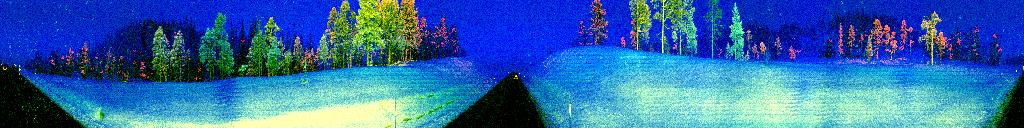pole: (567, 88, 573, 128), (393, 92, 398, 128)
